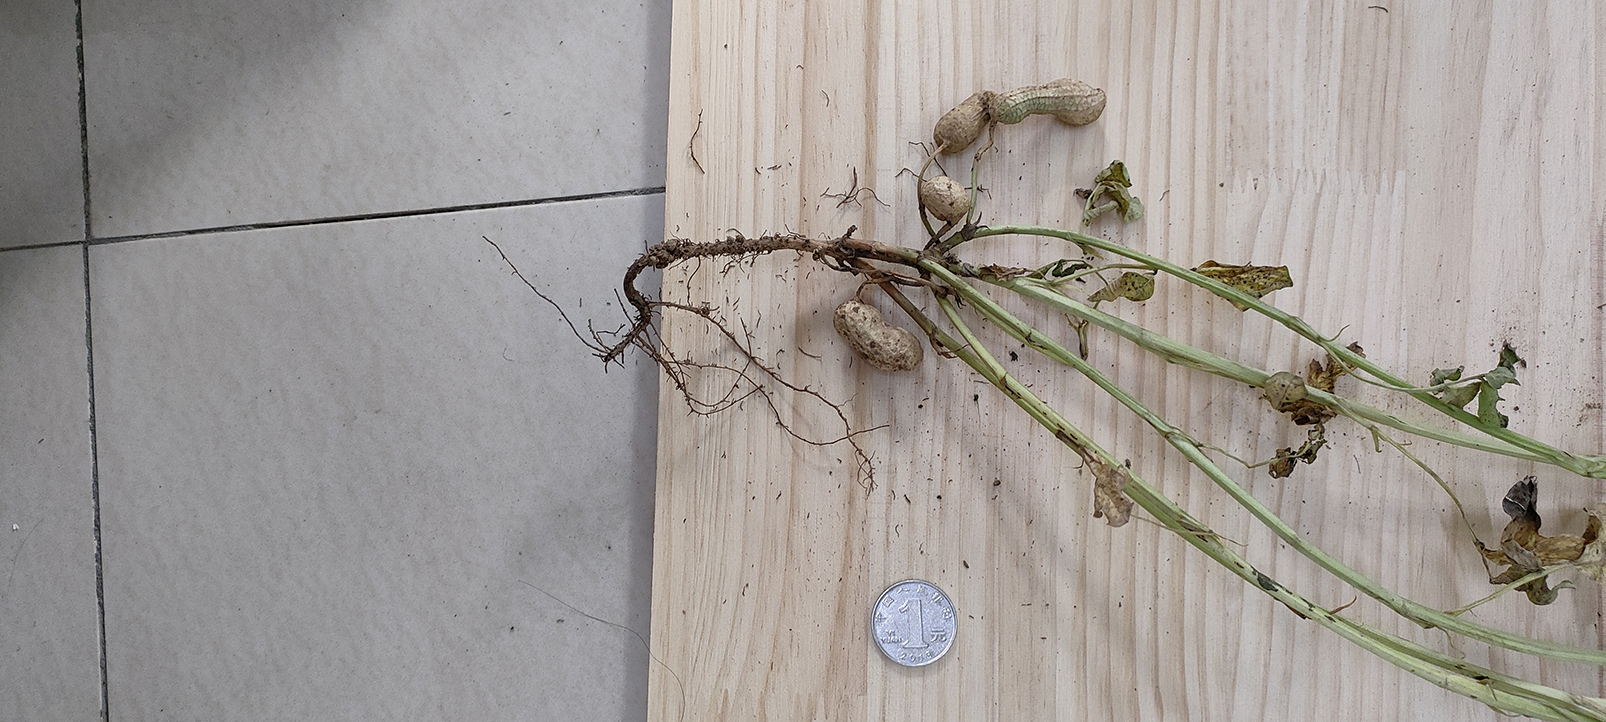h: (832, 301, 923, 371), (989, 79, 1105, 128), (933, 94, 991, 154), (921, 174, 970, 222)
